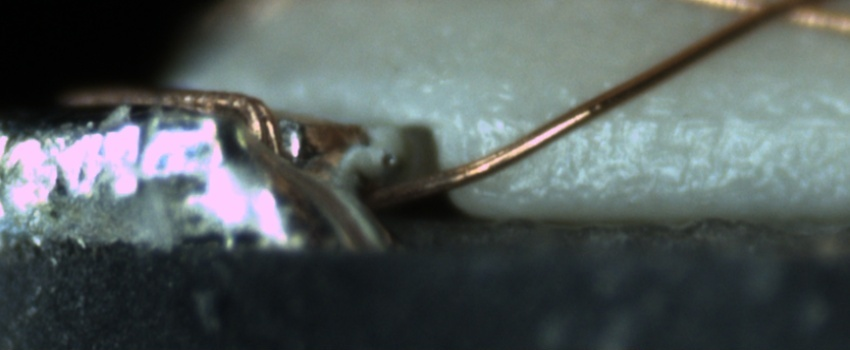CL: (712, 0, 835, 36)
DL: (486, 86, 850, 149)
TE: (57, 75, 292, 161)
